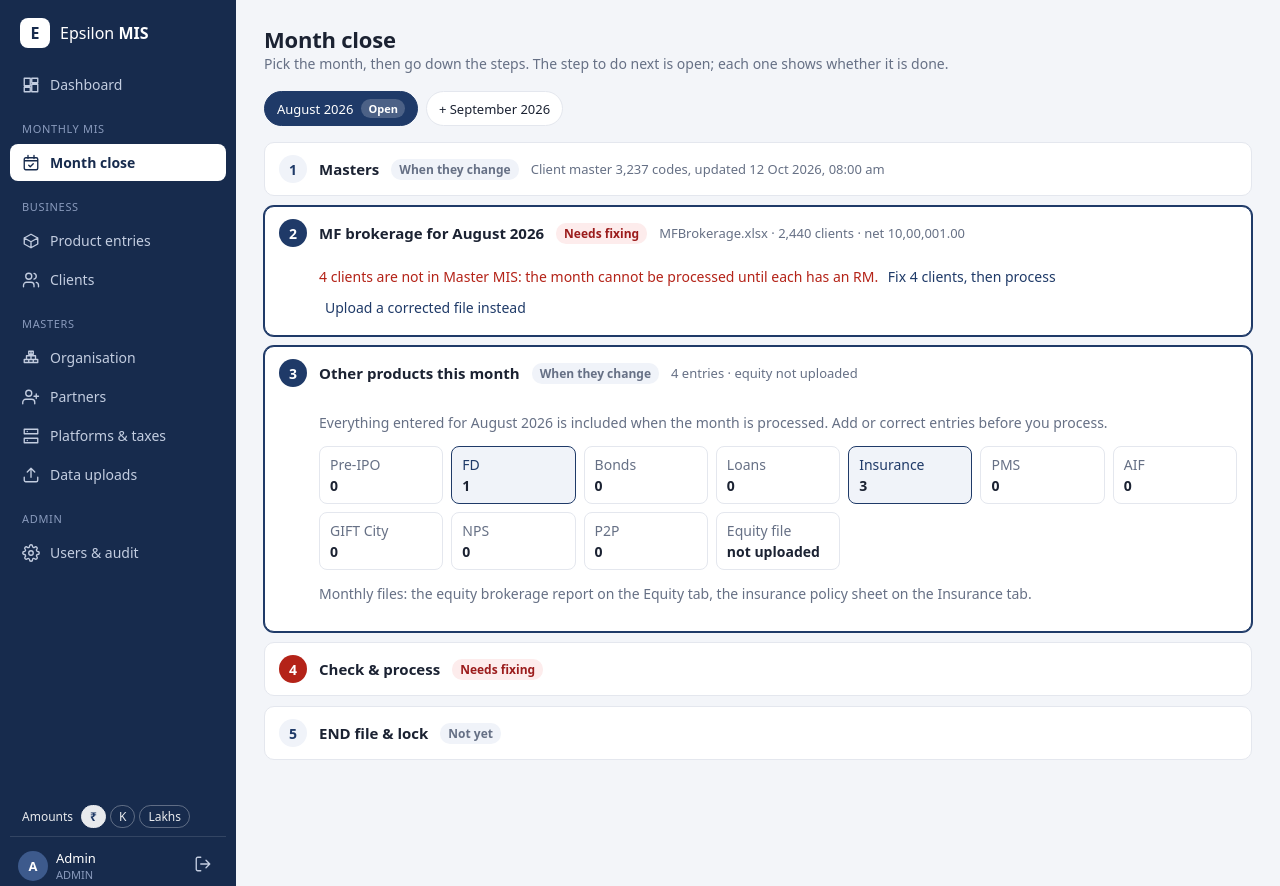
Test: this month › blocks Process while clients are not in Master MIS
expect the text "4 clients are not in Master MIS" is shown: met, box 319,263 -> 1062,290
Click the button "Fix 4 clients, then process".
click(972, 276)  # box 882,263 -> 1062,290
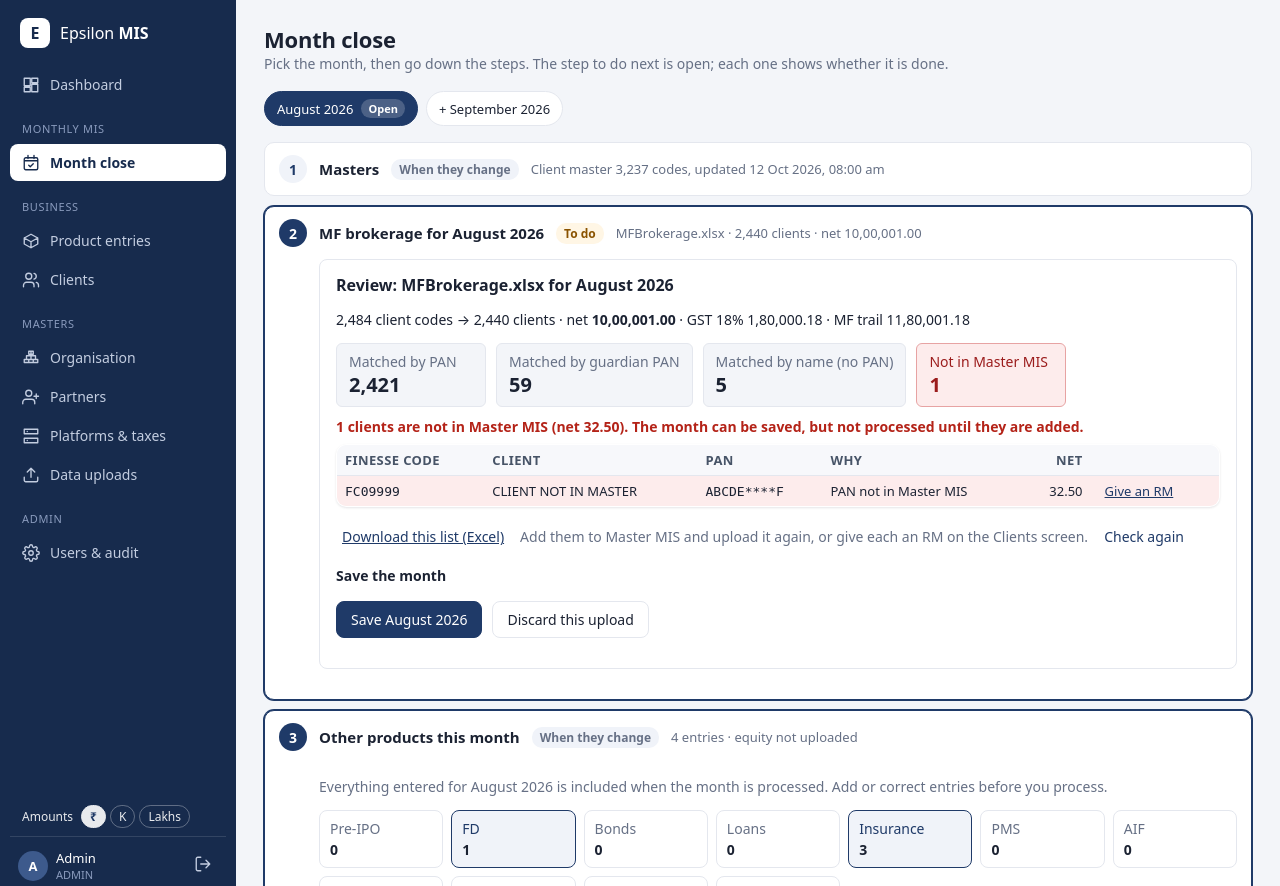
expect the text "CLIENT NOT IN MASTER" is shown: met, box 484,476 -> 698,506
